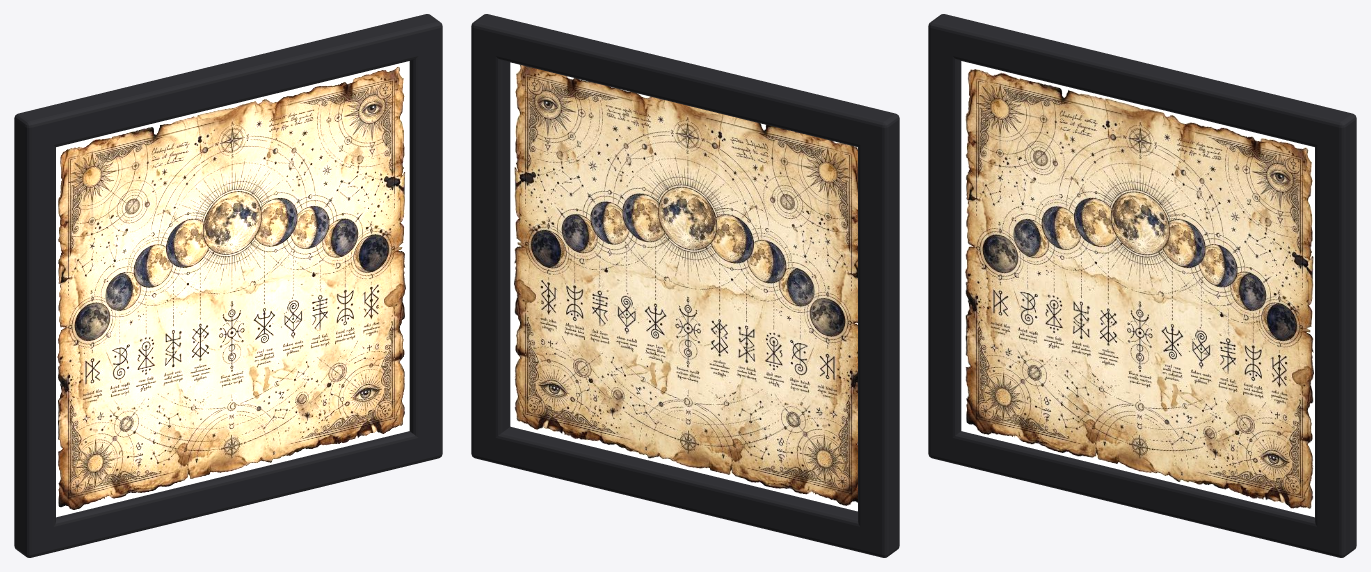
Rendered from art_moon_phases.glb.
3 views of the same model, side by side, from view 1: azimuth 30°, elevation 25°; view 2: azimuth 150°, elevation 25°; view 3: azimuth 330°, elevation 25° (orthographic).
Visible parts, largest first — view 1: GD_art_moon_phases__m0, GD_art_moon_phases__m1; view 2: GD_art_moon_phases__m0, GD_art_moon_phases__m1; view 3: GD_art_moon_phases__m0, GD_art_moon_phases__m1.
Boxes of the visible parts, box(x1,y1,x2,y2) form: GD_art_moon_phases__m0: box(56, 61, 409, 517); GD_art_moon_phases__m1: box(14, 14, 442, 557); GD_art_moon_phases__m0: box(510, 62, 857, 511); GD_art_moon_phases__m1: box(471, 14, 899, 557); GD_art_moon_phases__m0: box(961, 61, 1314, 517); GD_art_moon_phases__m1: box(928, 14, 1356, 557).
Size of the model in its own units: 0.96 by 0.96 by 0.06.
Materials: 2 (1 with a texture image).
